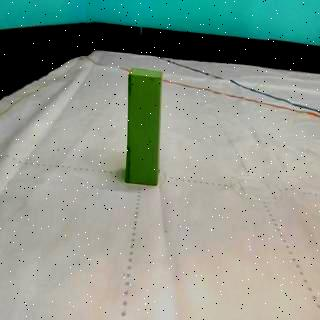greenbox: (124, 66, 164, 188)
